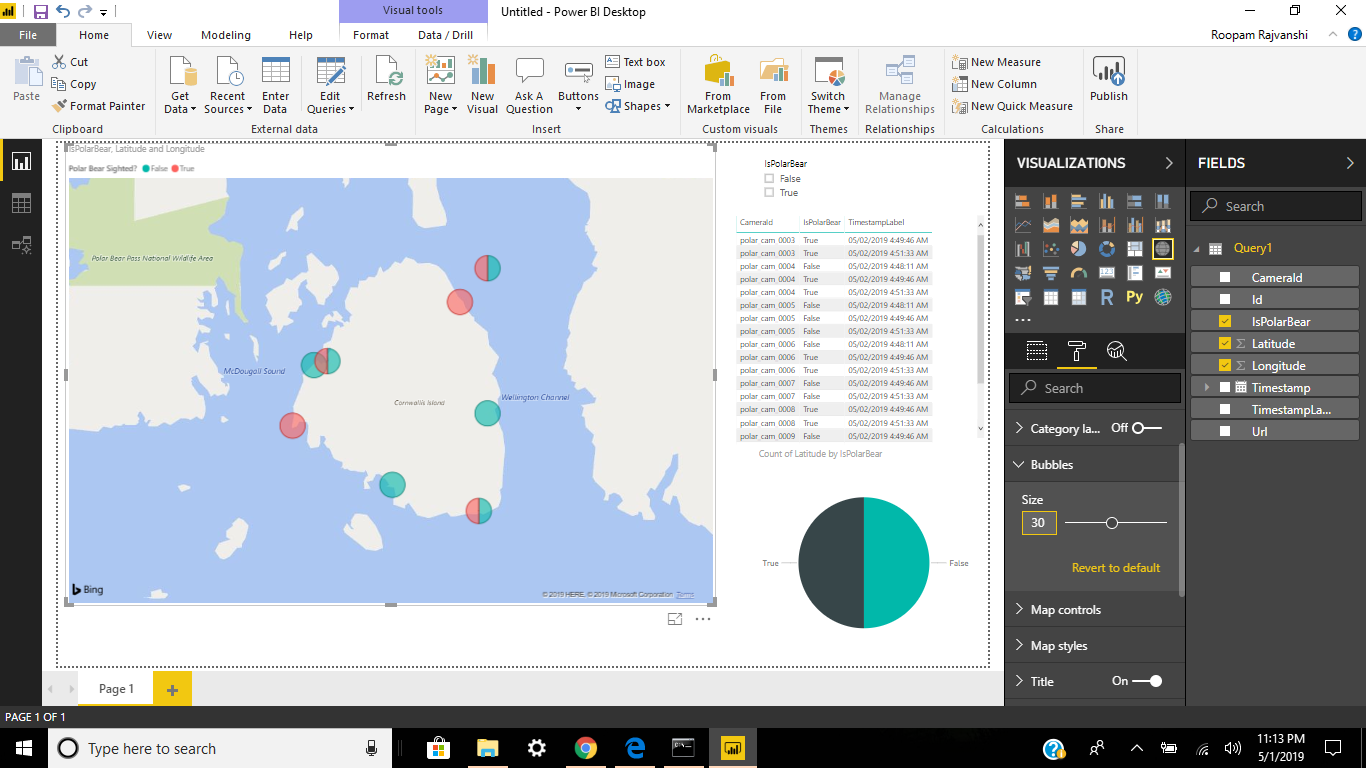

This screenshot's page, from the dashboard's own definition file:
{"tool":"powerbi","page":{"name":"Polar Bear Activity","canvas":[1280,720],"ordinal":0},"visuals":[{"type":"map","fields":{"X":["Query1.Longitude"],"Y":["Query1.Latitude"],"Series":["Query1.IsPolarBear"]},"box":[9.6,0,896.2,637.4],"z":1},{"type":"tableEx","title":"Camera Activity","fields":{"Values":["Query1.CameraId","Query1.IsPolarBear","Query1.TimestampLabel"]},"box":[927.9,95,352.4,324.9],"z":2},{"type":"pieChart","title":"Proportion of Polar Bear Sightings","fields":{"Category":["Query1.IsPolarBear"],"Y":["CountNonNull(Query1.Latitude)"]},"box":[959.5,419.9,300.1,300.1],"z":3},{"type":"slicer","title":"Show Sightings that are:","fields":{"Values":["Query1.IsPolarBear"]},"box":[959.5,15.1,168,79.8],"z":4}]}

Visuals, with their boxes in screenshot pixels (x1, y1, x2, y2):
map - Query1.Longitude x Query1.Latitude: <box>38,53,948,700</box>
"Camera Activity" tableEx: <box>970,150,1328,480</box>
"Proportion of Polar Bear Sightings" pieChart: <box>1002,480,1307,767</box>
"Show Sightings that are:" slicer: <box>1002,69,1173,150</box>
